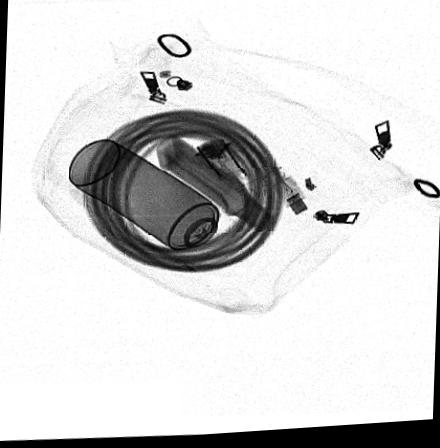Sprayer: (67, 140, 241, 271)
